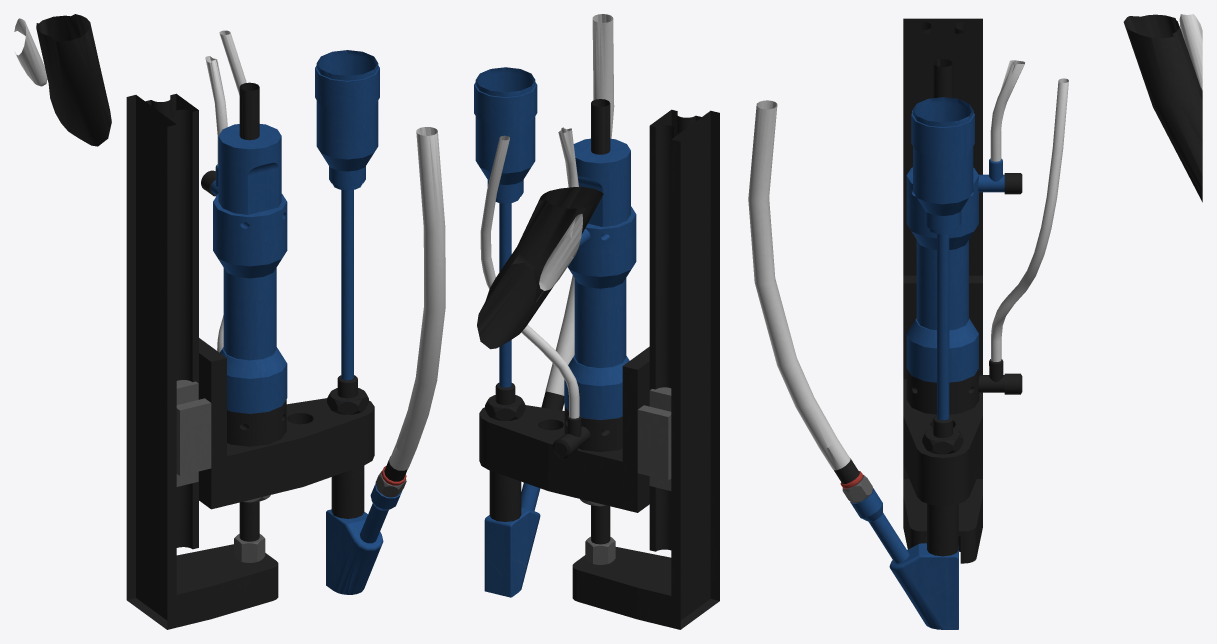
Rendered from TightenerStation_Cube17.glb.
3 renders of one model, left to right at view 1: azimuth 30°, elevation 25°; view 2: azimuth 150°, elevation 25°; view 3: azimuth 270°, elevation 25°, orthographic. The views are drawn at different scales.
Parts seen in each view (by area): view 1: color-2.019; view 2: color-2.019; view 3: color-2.019.
Boxes of the visible parts, x1,y1,x2,y2 form: color-2.019: [14, 14, 445, 629]; color-2.019: [474, 14, 719, 629]; color-2.019: [748, 14, 1202, 629].
Bounding box in the file's own units: 0.1461 × 0.32 × 0.2567.
5 materials, 5 textured.
